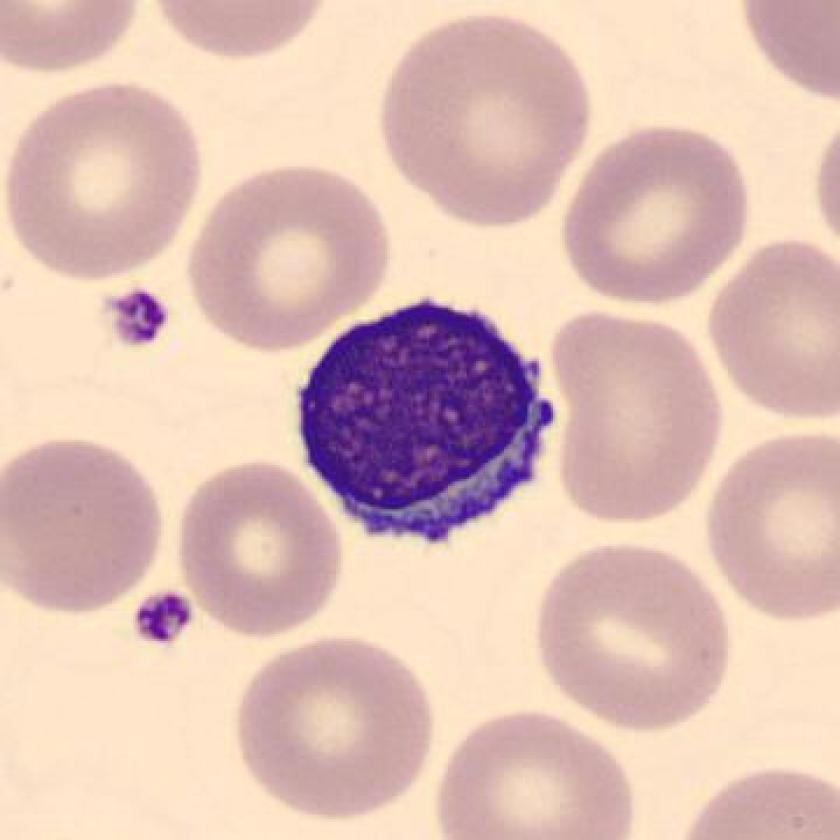lymphocyte: (279, 274, 568, 561)
